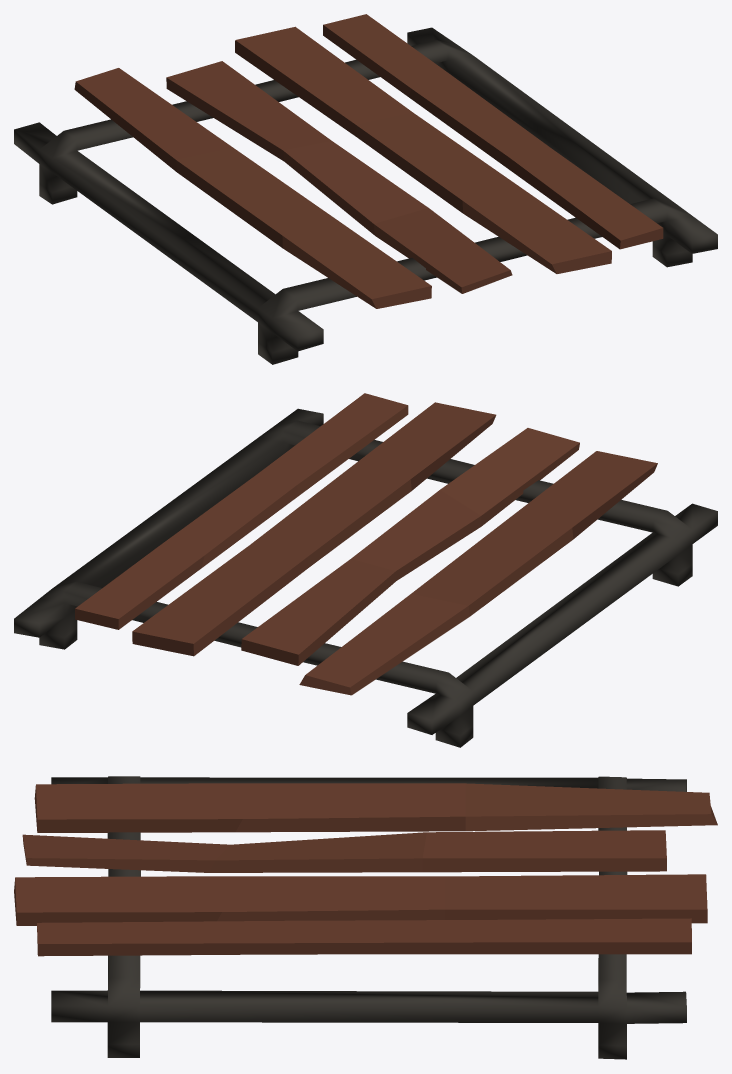
File: roofrack_Wood.fbx
3 renders of one model, top to bottom at view 1: azimuth 30°, elevation 25°; view 2: azimuth 150°, elevation 25°; view 3: azimuth 270°, elevation 25°, orthographic. The views are drawn at different scales.
Parts seen in each view (by area): view 1: Rack; view 2: Rack; view 3: Rack.
Boxes of the visible parts, x1,y1,x2,y2 form: Rack: [14, 14, 717, 364]; Rack: [14, 393, 717, 747]; Rack: [14, 776, 717, 1059].
Bounding box in the file's own units: 1.31 × 0.2207 × 1.7.
